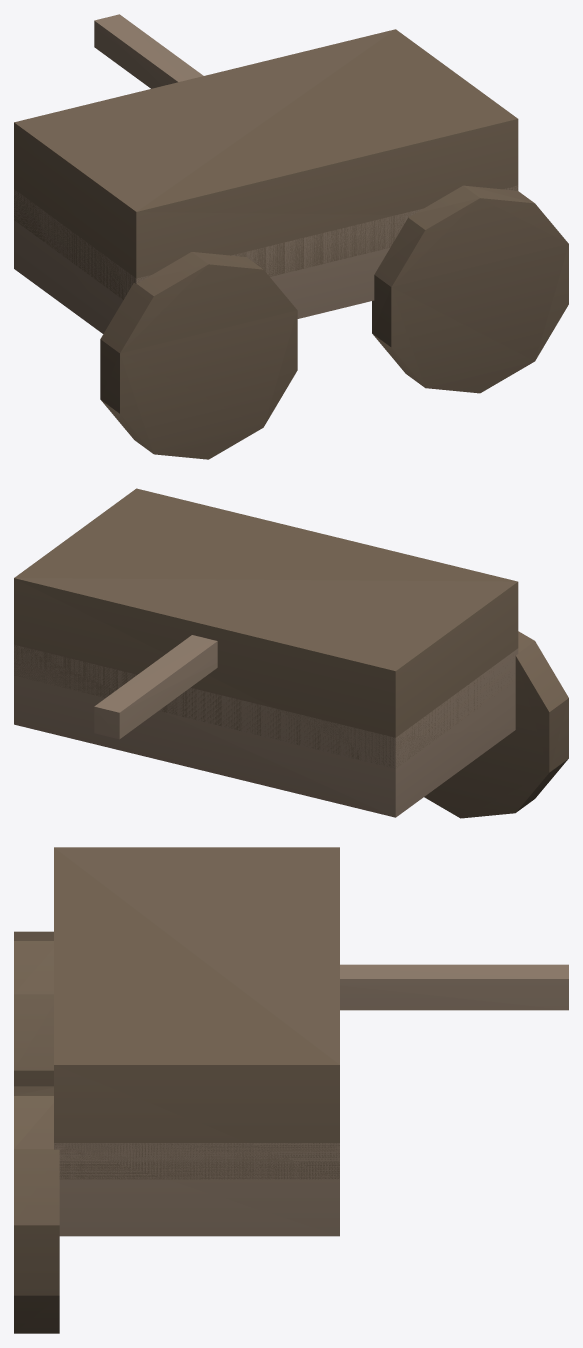
File: cart.glb
3 views of the same model, one above another, from view 1: azimuth 30°, elevation 25°; view 2: azimuth 150°, elevation 25°; view 3: azimuth 270°, elevation 25° (orthographic). The views are drawn at different scales.
Parts seen in each view (by area): view 1: cart; view 2: cart; view 3: cart.
Boxes of the visible parts, left/top/right/bottom form: cart: left=14, top=14, right=568, bottom=459; cart: left=14, top=488, right=568, bottom=818; cart: left=14, top=847, right=568, bottom=1333.
Bounding box in the file's own units: 1.06 × 0.56 × 0.97.
